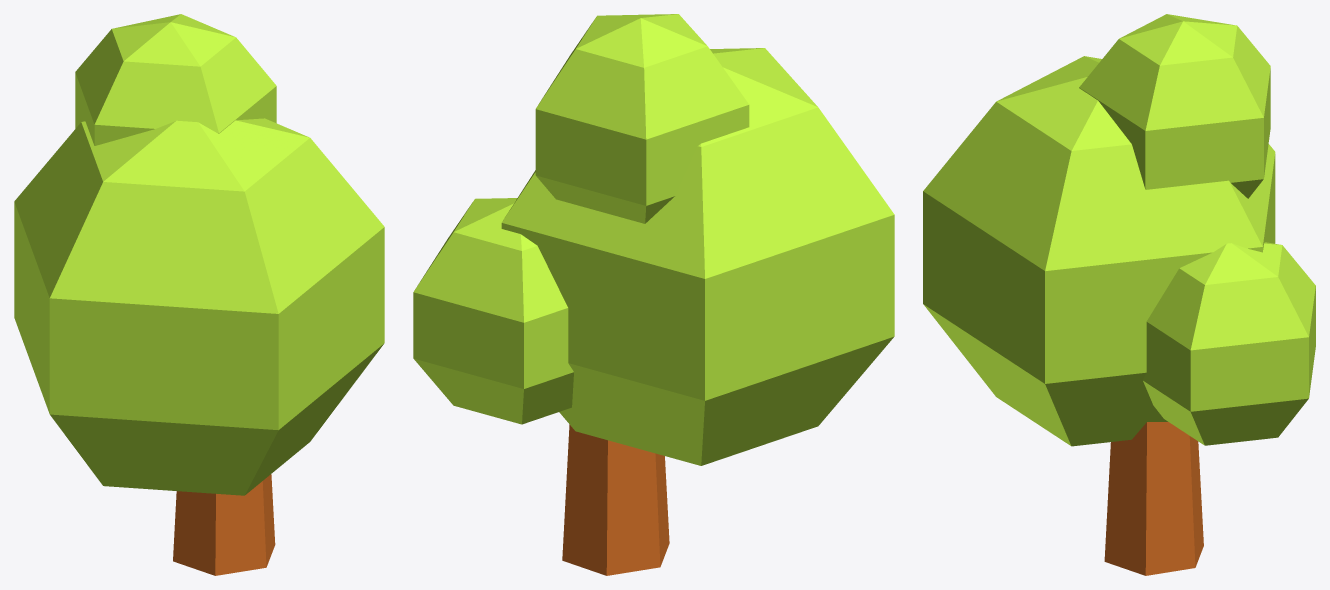
Rendered from Tree2.fbx.
3 renders of one model, left to right at view 1: azimuth 30°, elevation 25°; view 2: azimuth 150°, elevation 25°; view 3: azimuth 270°, elevation 25°, orthographic. The views are drawn at different scales.
Parts seen in each view (by area): view 1: Leaves.193, Leaves.192, Trunk.077; view 2: Leaves.193, Leaves.192, Leaves.194, Trunk.077; view 3: Leaves.193, Leaves.194, Leaves.192, Trunk.077.
Boxes of the visible parts, <box> form: Leaves.193: <box>14,118,384,495</box>; Leaves.192: <box>75,14,276,145</box>; Trunk.077: <box>173,474,275,575</box>; Leaves.193: <box>501,48,894,465</box>; Leaves.192: <box>535,14,749,223</box>; Leaves.194: <box>413,198,573,424</box>; Trunk.077: <box>562,424,669,575</box>; Leaves.193: <box>923,56,1275,446</box>; Leaves.194: <box>1143,242,1315,445</box>; Leaves.192: <box>1079,14,1270,198</box>; Trunk.077: <box>1104,422,1203,575</box>.
Bounding box in the file's own units: 633 × 886 × 613.
